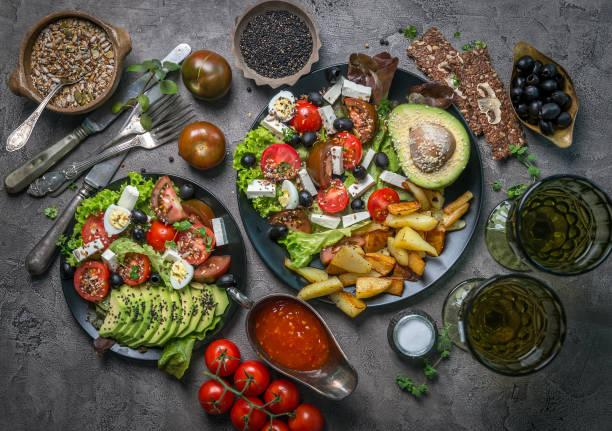Braised Crucian Carp: (235, 63, 477, 311), (61, 171, 246, 362), (6, 8, 130, 114)
